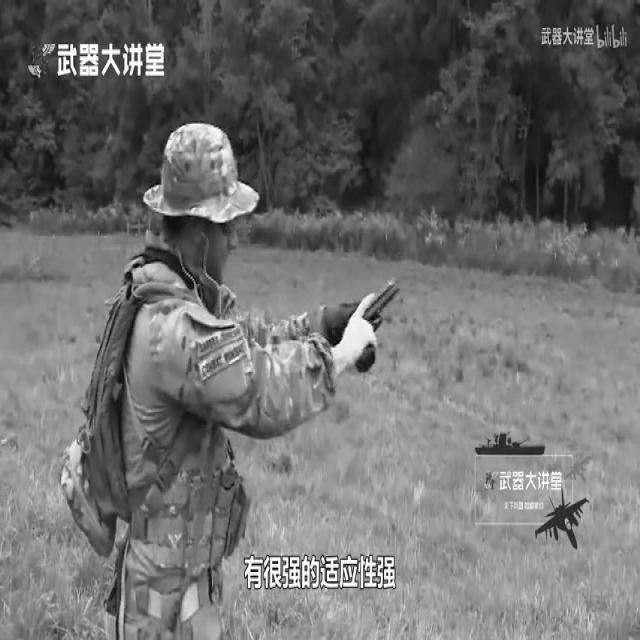Hand-Gun: (324, 264, 409, 407)
